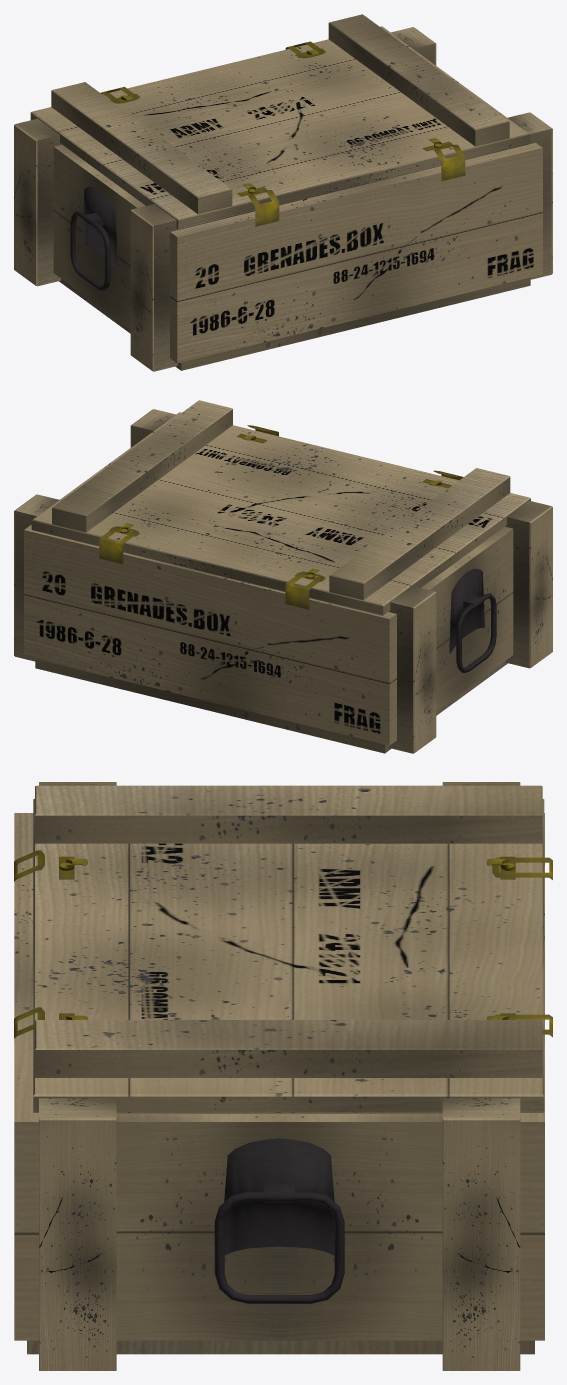
The model's file is o_p_004_ammobox_01_01.fbx.
The picture shows the model from 3 angles, top to bottom: view 1: azimuth 30°, elevation 25°; view 2: azimuth 150°, elevation 25°; view 3: azimuth 270°, elevation 25°; orthographic projection. The views are drawn at different scales.
Parts seen in each view (by area): view 1: ammobox, lid; view 2: ammobox, lid; view 3: lid, ammobox.
Boxes of the visible parts, x1=… form: ammobox: x1=14, y1=27, x2=552, y2=371; lid: x1=30, y1=14, x2=530, y2=229; ammobox: x1=14, y1=409, x2=552, y2=753; lid: x1=31, y1=400, x2=530, y2=615; lid: x1=33, y1=785, x2=552, y2=1113; ammobox: x1=14, y1=782, x2=544, y2=1370.
Bounding box in the file's own units: 67.6 × 27.01 × 45.52.
